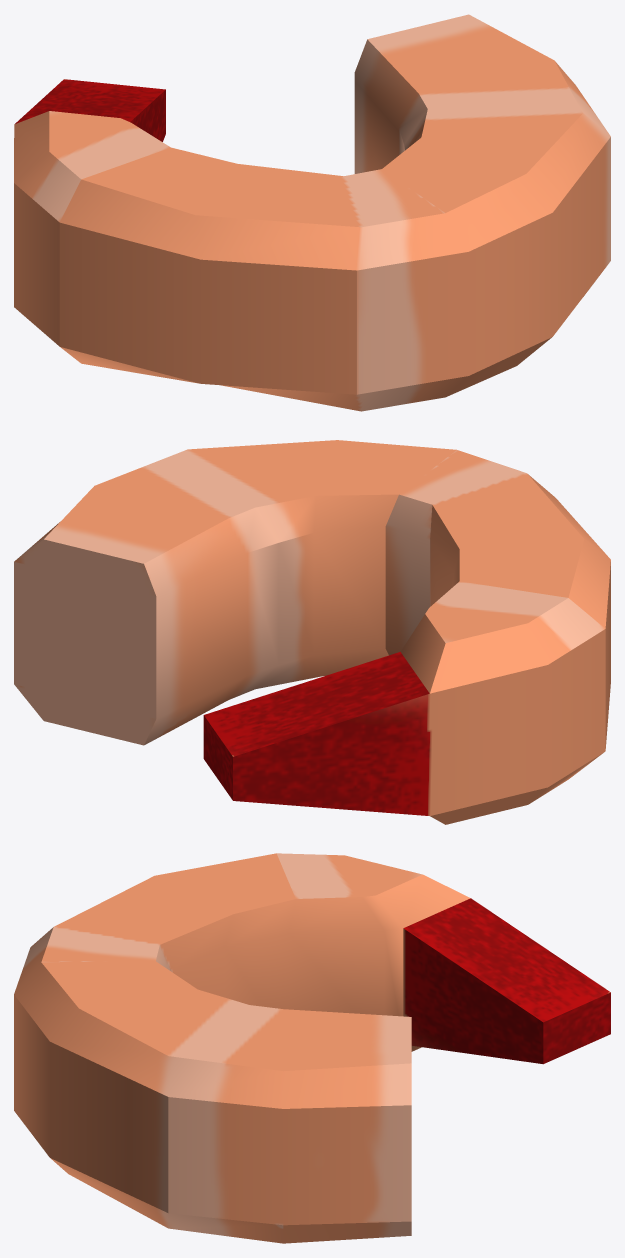
File: Camarao.fbx
The picture shows the model from 3 angles, top to bottom: view 1: azimuth 30°, elevation 25°; view 2: azimuth 150°, elevation 25°; view 3: azimuth 270°, elevation 25°; orthographic projection. The views are drawn at different scales.
Parts seen in each view (by area): view 1: CamaraoCru; view 2: CamaraoCru; view 3: CamaraoCru.
Part boxes in pixels (bbox=[...]): CamaraoCru: bbox=[14, 14, 610, 411]; CamaraoCru: bbox=[14, 440, 610, 824]; CamaraoCru: bbox=[14, 853, 610, 1243].
Bounding box in the file's own units: 9.14 × 3.05 × 9.57.
